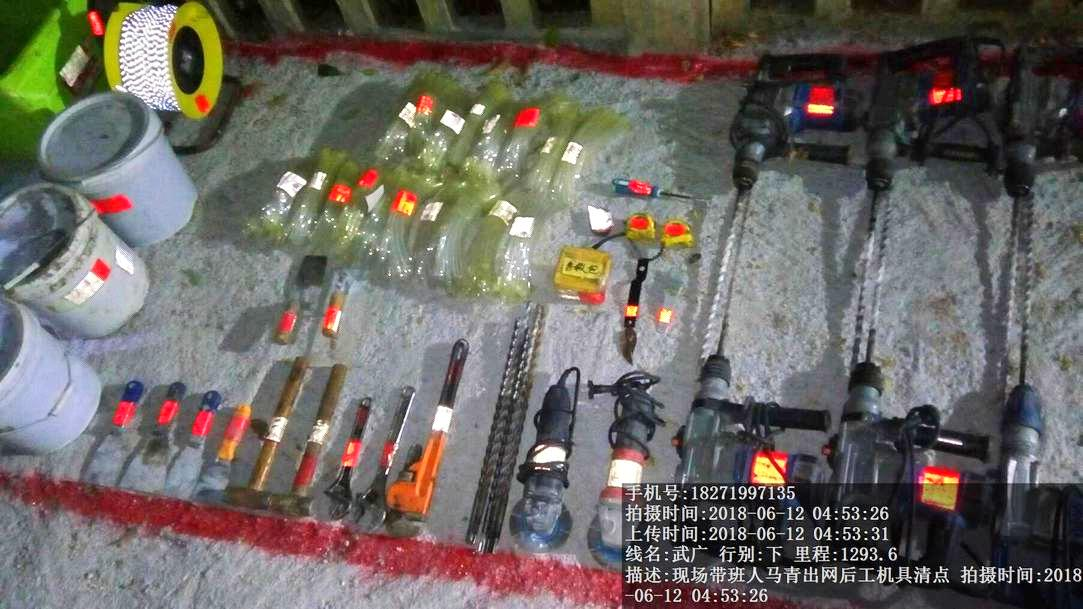DMJ: (507, 379, 581, 548)
DZ: (714, 50, 847, 334), (860, 44, 979, 256), (996, 43, 1082, 237)
